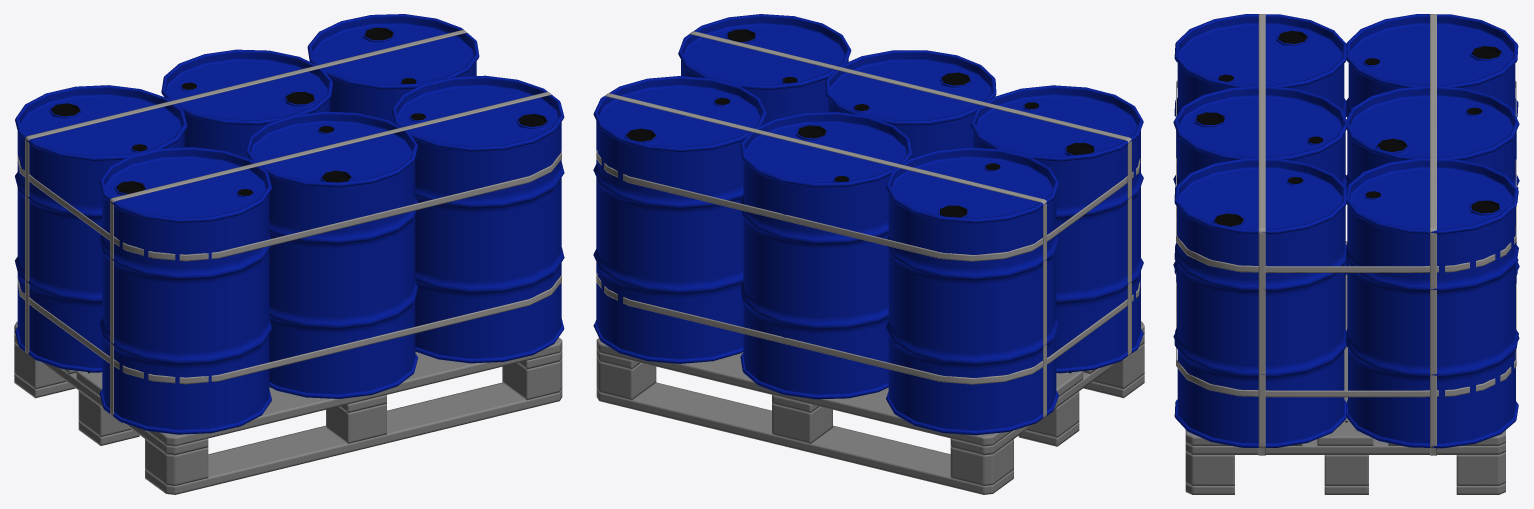
File: BarrelsOnPalletBlue.FBX
3 views of the same model, side by side, from view 1: azimuth 30°, elevation 25°; view 2: azimuth 150°, elevation 25°; view 3: azimuth 270°, elevation 25° (orthographic).
Parts seen in each view (by area): view 1: Barrel008, Barrel002, Barrel007, Barrel011, Barrel009, Barrel010, Woodpc003, WoodHld004, Rope21, Rope33, Woodpc1, Wpnl016; view 2: Barrel011, Barrel009, Barrel010, Barrel008, Barrel002, Barrel007, Woodpc003, WoodHld004, Rope21, Rope33, Woodpc1, Wpnl016; view 3: Barrel009, Barrel002, Barrel007, Barrel010, Barrel008, Barrel011, Rope33, Rope21, WoodHld004, Wpnl016, Woodpc1, Woodpc003.
Part boxes in pixels (x1,y1,x2,y2): Barrel008: [99, 147, 272, 434]; Barrel002: [391, 75, 564, 363]; Barrel007: [245, 111, 418, 398]; Barrel011: [15, 85, 187, 372]; Barrel009: [307, 14, 479, 123]; Barrel010: [161, 49, 333, 158]; Woodpc003: [14, 374, 562, 494]; WoodHld004: [14, 343, 562, 485]; Rope21: [17, 151, 561, 384]; Rope33: [25, 30, 551, 430]; Woodpc1: [14, 321, 562, 446]; Wpnl016: [14, 334, 562, 455]; Barrel011: [886, 147, 1059, 435]; Barrel009: [593, 76, 766, 363]; Barrel010: [740, 112, 912, 399]; Barrel008: [970, 85, 1143, 373]; Barrel002: [678, 14, 851, 123]; Barrel007: [825, 50, 996, 158]; Woodpc003: [596, 374, 1144, 494]; WoodHld004: [596, 343, 1144, 485]; Rope21: [596, 149, 1140, 384]; Rope33: [604, 31, 1131, 432]; Woodpc1: [596, 321, 1144, 446]; Wpnl016: [596, 334, 1144, 455]; Barrel009: [1346, 158, 1518, 448]; Barrel002: [1174, 158, 1346, 447]; Barrel007: [1173, 86, 1347, 338]; Barrel010: [1345, 85, 1519, 340]; Barrel008: [1174, 14, 1346, 274]; Barrel011: [1346, 14, 1518, 274]; Rope33: [1258, 14, 1436, 455]; Rope21: [1176, 80, 1516, 397]; WoodHld004: [1185, 452, 1505, 485]; Wpnl016: [1185, 439, 1505, 454]; Woodpc1: [1185, 241, 1505, 445]; Woodpc003: [1185, 483, 1505, 494].
Size of the model in its own units: 164 by 97.34 by 110.
